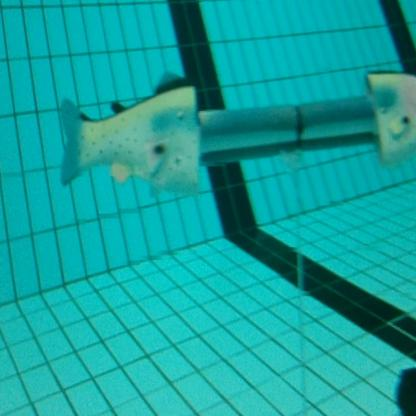tail: (58, 70, 204, 202)
